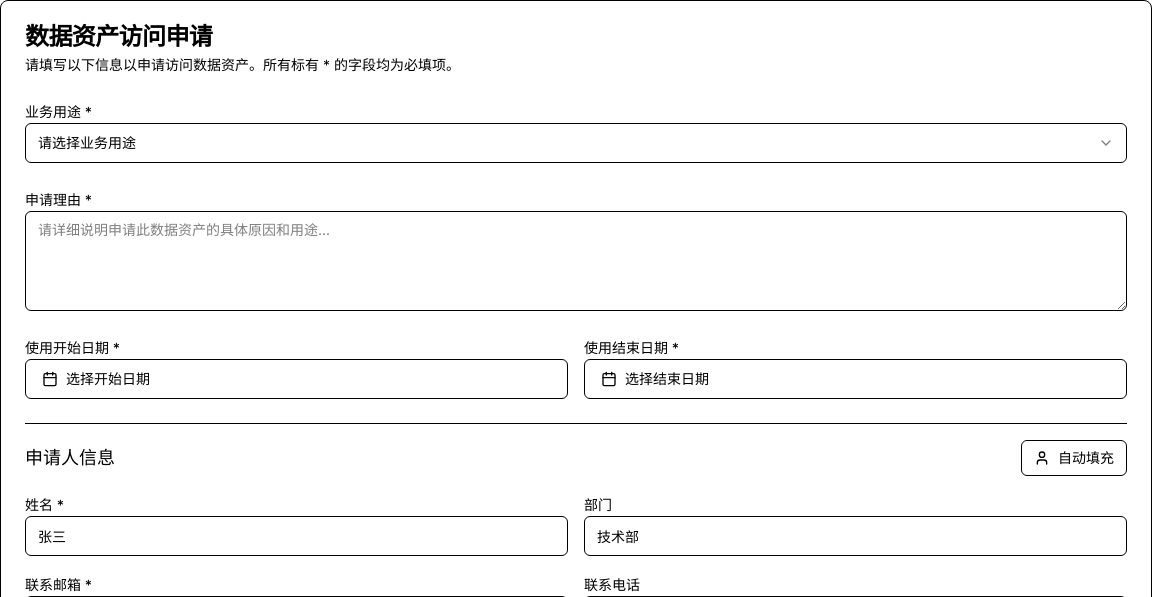
Test: ApplicationForm › 应该验证申请理由长度
Note:  输入过短的理由
Type "短理由" into the text box labelled "申请理由 *".
click(576, 261); type("短理由")  # box [25, 211, 1127, 311]
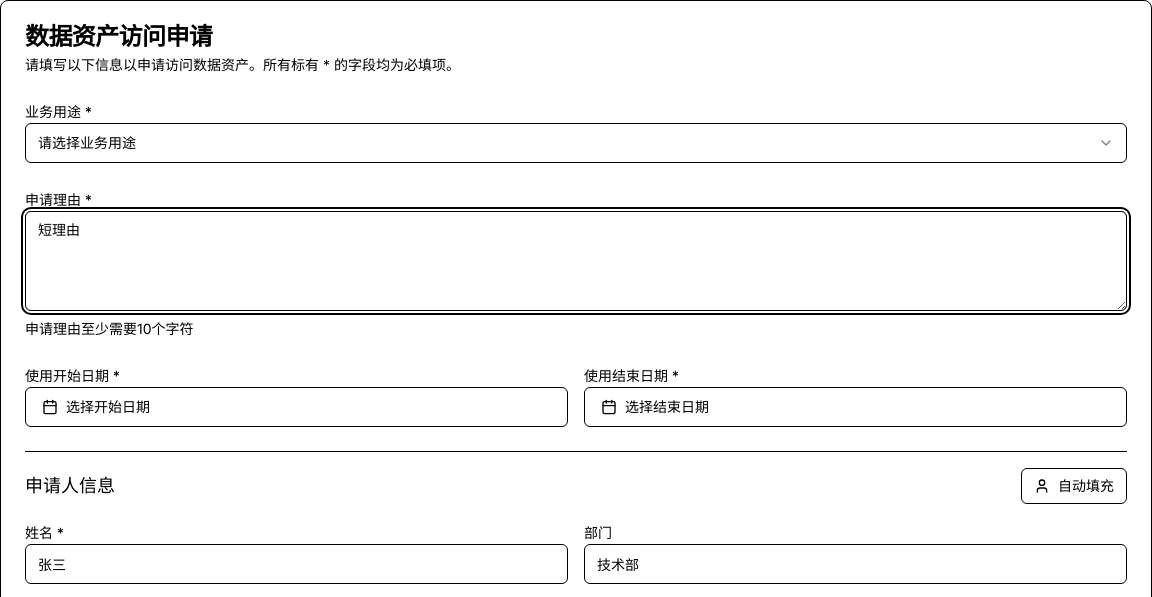
Expected: the text "申请理由至少需要10个字符" is shown, [25, 320, 194, 337]
